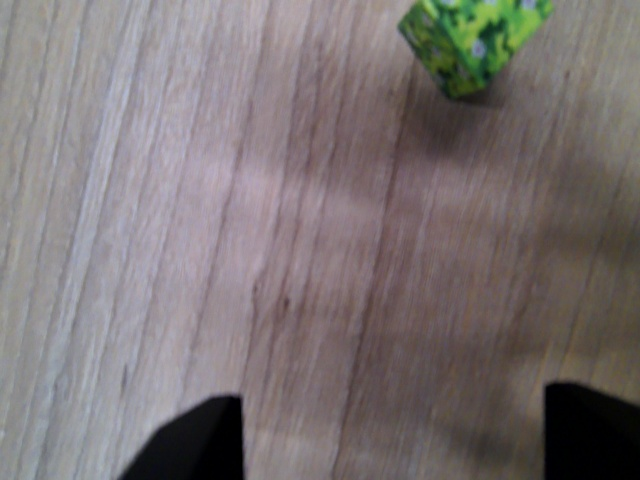grass: (397, 2, 554, 99)
